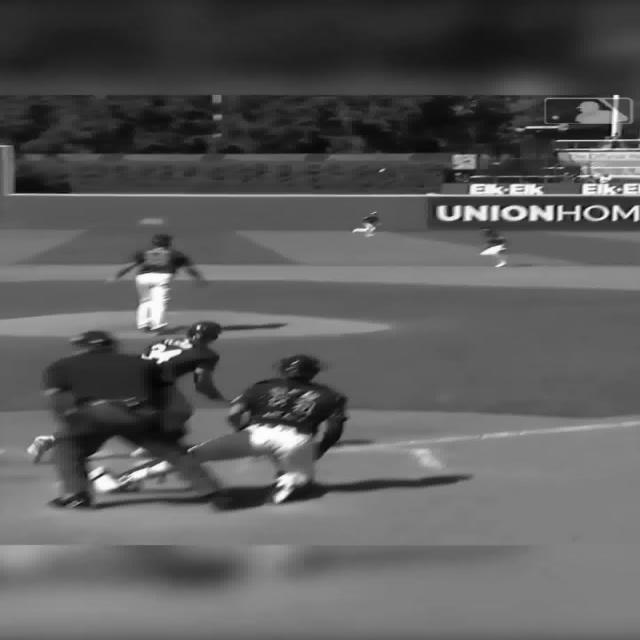baseball: (378, 168, 387, 172)
shoe: (270, 473, 311, 504), (92, 473, 138, 493), (26, 435, 54, 464), (52, 491, 90, 508), (156, 325, 180, 335), (148, 322, 168, 330), (494, 260, 506, 268)
